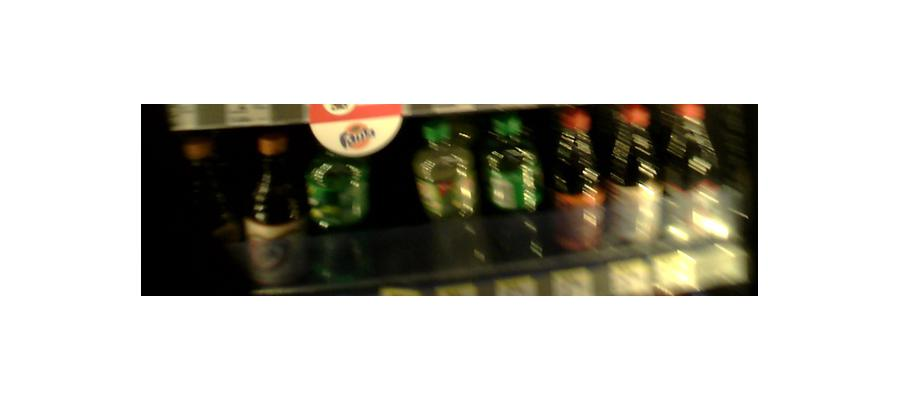bottle: (304, 118, 380, 267), (416, 118, 479, 269), (482, 118, 543, 263), (248, 130, 302, 288), (552, 107, 603, 256), (607, 108, 656, 252)
